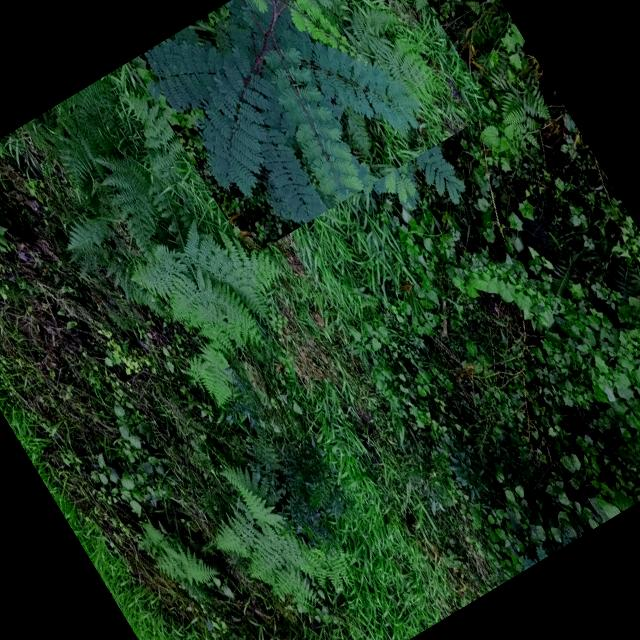Mysore-Thorn-Weed: (131, 0, 492, 257)
